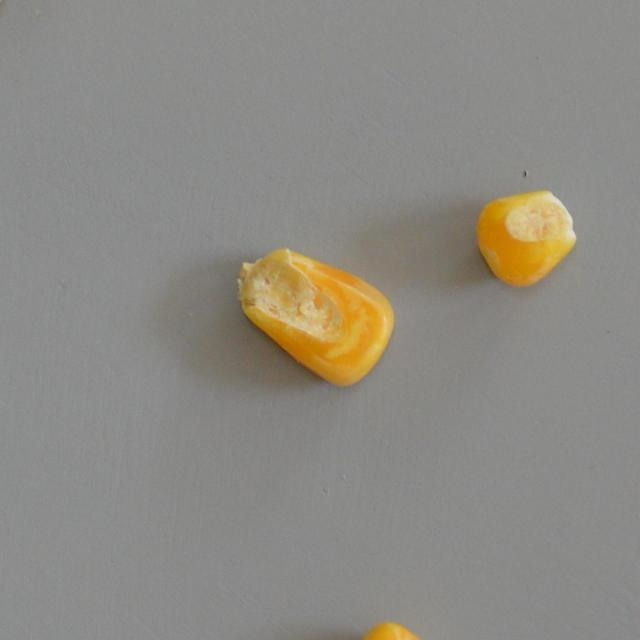no_desgerminado: (234, 242, 393, 389)
pelicula: (474, 190, 576, 286), (344, 621, 445, 640)
